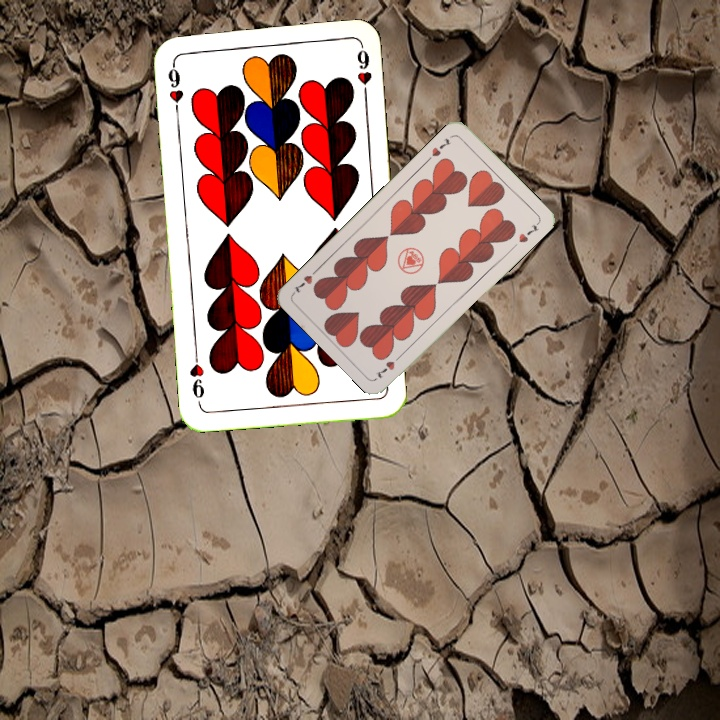H7: (372, 350, 405, 381), (428, 134, 454, 159)
H9: (164, 58, 186, 117)
